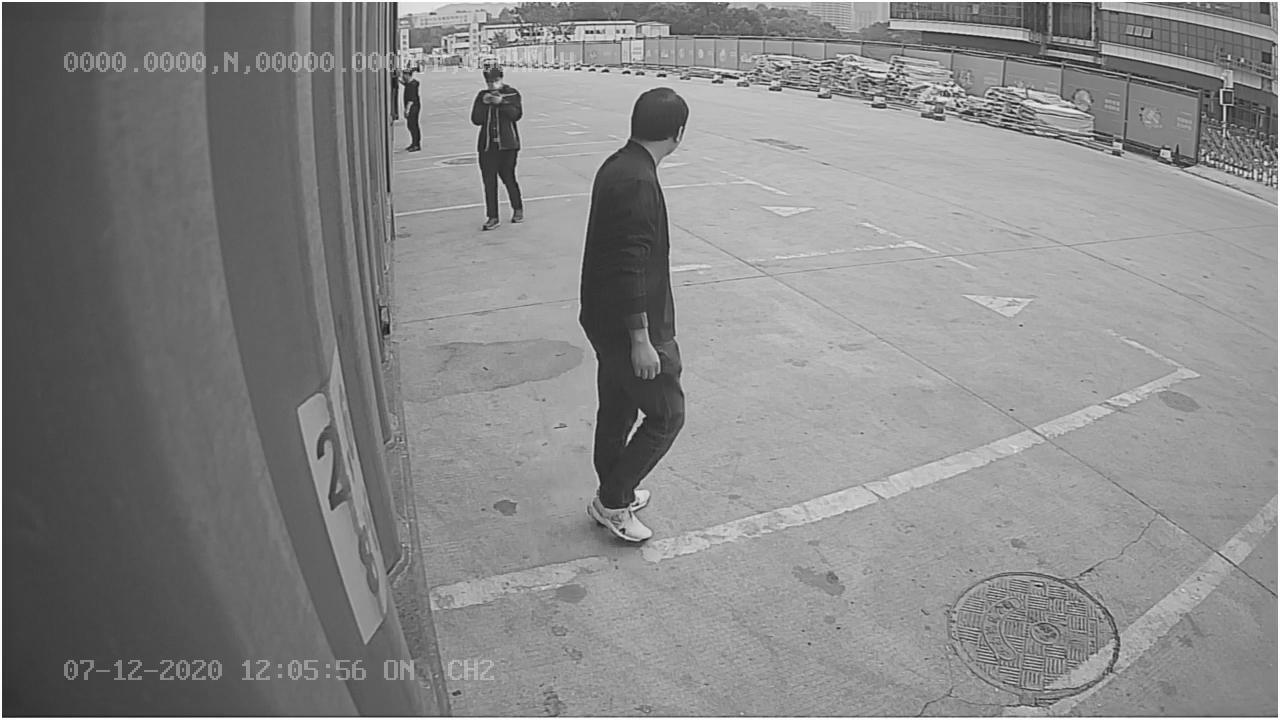person: (578, 84, 692, 543)
